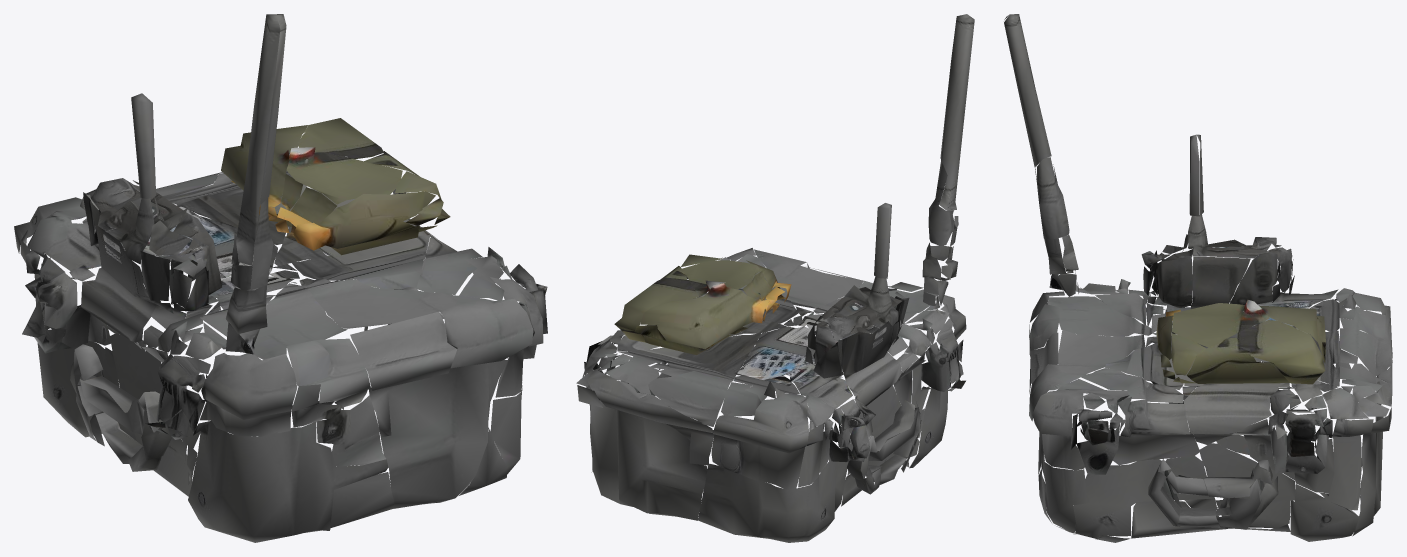
File: prop_expedition_radio_station_LOD1.glb
3 views of the same model, side by side, from view 1: azimuth 30°, elevation 25°; view 2: azimuth 150°, elevation 25°; view 3: azimuth 270°, elevation 25° (orthographic). The views are drawn at different scales.
Parts seen in each view (by area): view 1: tripo_node_0a4e3f66-2cd6-4ce0-ba71-ba6d2677f7e4; view 2: tripo_node_0a4e3f66-2cd6-4ce0-ba71-ba6d2677f7e4; view 3: tripo_node_0a4e3f66-2cd6-4ce0-ba71-ba6d2677f7e4.
Boxes of the visible parts, x1,y1,x2,y2 form: tripo_node_0a4e3f66-2cd6-4ce0-ba71-ba6d2677f7e4: (14,14,547,542); tripo_node_0a4e3f66-2cd6-4ce0-ba71-ba6d2677f7e4: (576,14,974,542); tripo_node_0a4e3f66-2cd6-4ce0-ba71-ba6d2677f7e4: (1004,14,1392,542).
Size of the model in its own units: 0.7103 by 0.9965 by 0.8199.
1 material, 1 textured.
